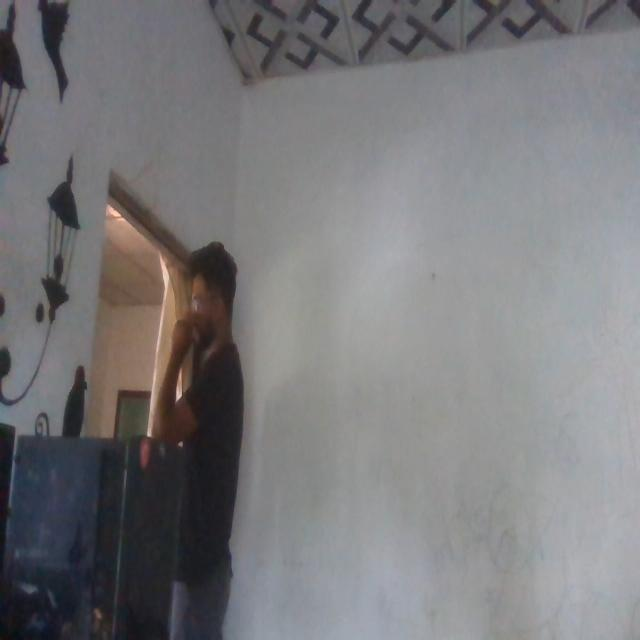Person: (148, 246, 259, 630)
